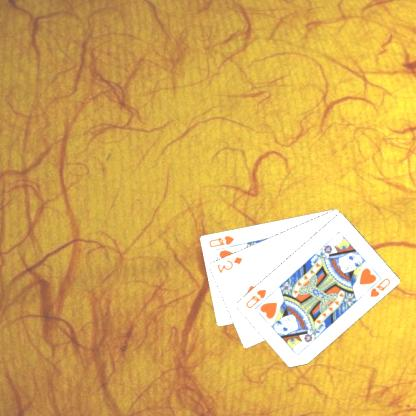3D: (216, 254, 245, 274)
QH: (362, 274, 394, 299), (244, 286, 269, 310), (208, 232, 238, 249)
